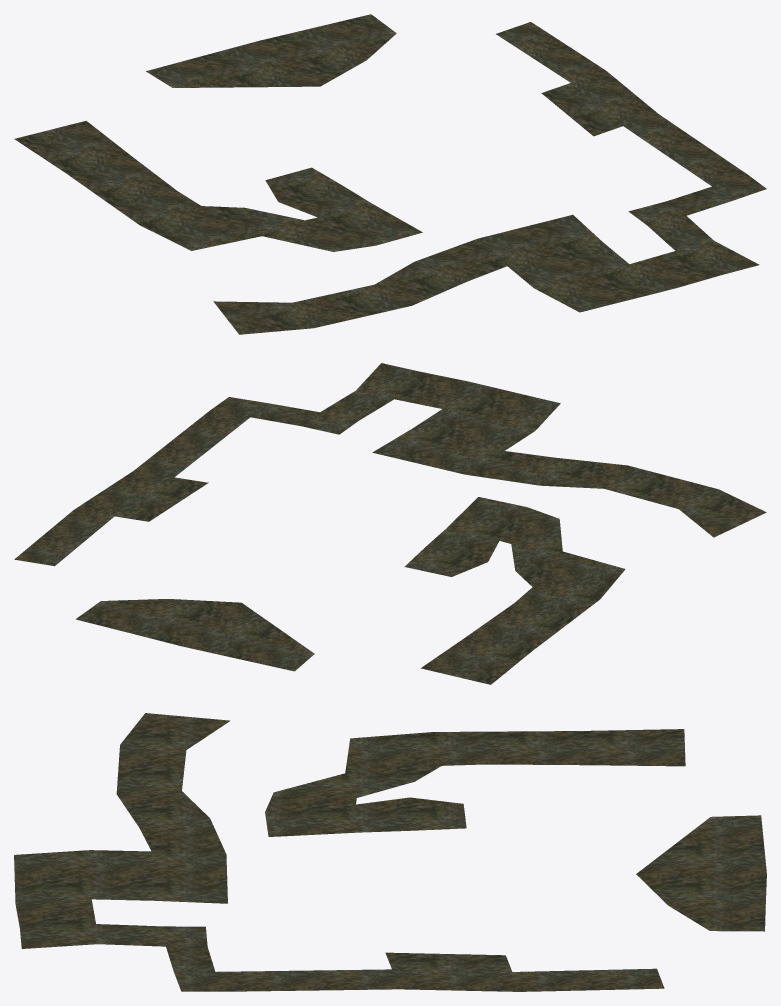
File: water2.fbx
3 views of the same model, one above another, from view 1: azimuth 30°, elevation 25°; view 2: azimuth 150°, elevation 25°; view 3: azimuth 270°, elevation 25° (orthographic). The views are drawn at different scales.
Parts seen in each view (by area): view 1: water2; view 2: water2; view 3: water2.
Part boxes in pixels (left/top/right/bottom): water2: left=14, top=14, right=766, bottom=334; water2: left=14, top=363, right=766, bottom=684; water2: left=14, top=713, right=766, bottom=991.
Bounding box in the file's own units: 27764 × 19.7 × 31635.
